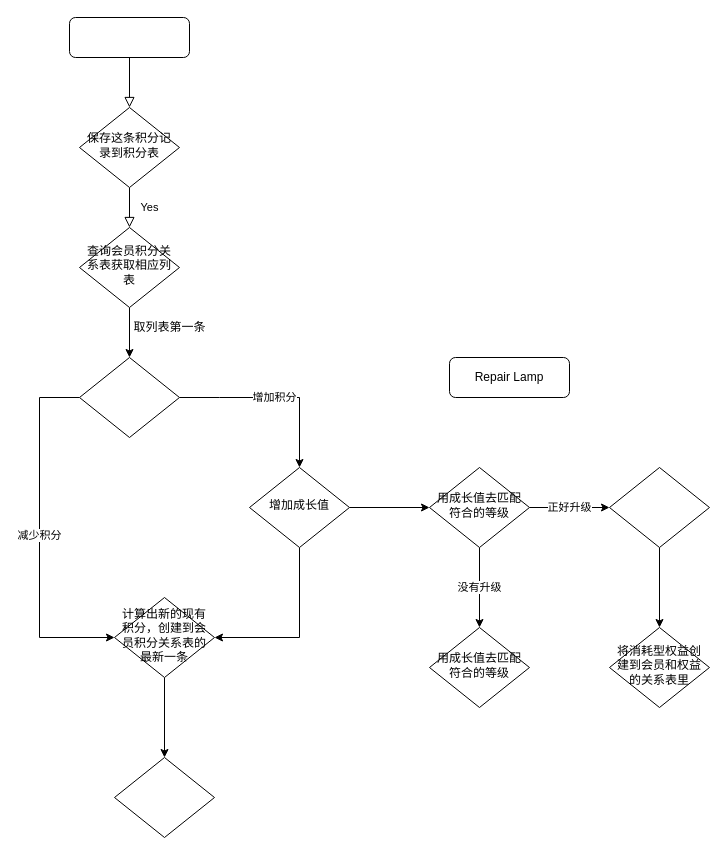
The diagram is 727 pixels wide and 855 high, and some of its shapes have lost their labels. Each missing label, with the centre of its shape:
"找出新等级所有消耗型的权益" belongs at [659,507].
"更新会员自身的积分和成长值" belongs at [164,797].
"获取最新一条会员积分关系数据" belongs at [129,397].
"获取积分" belongs at [129,37].
